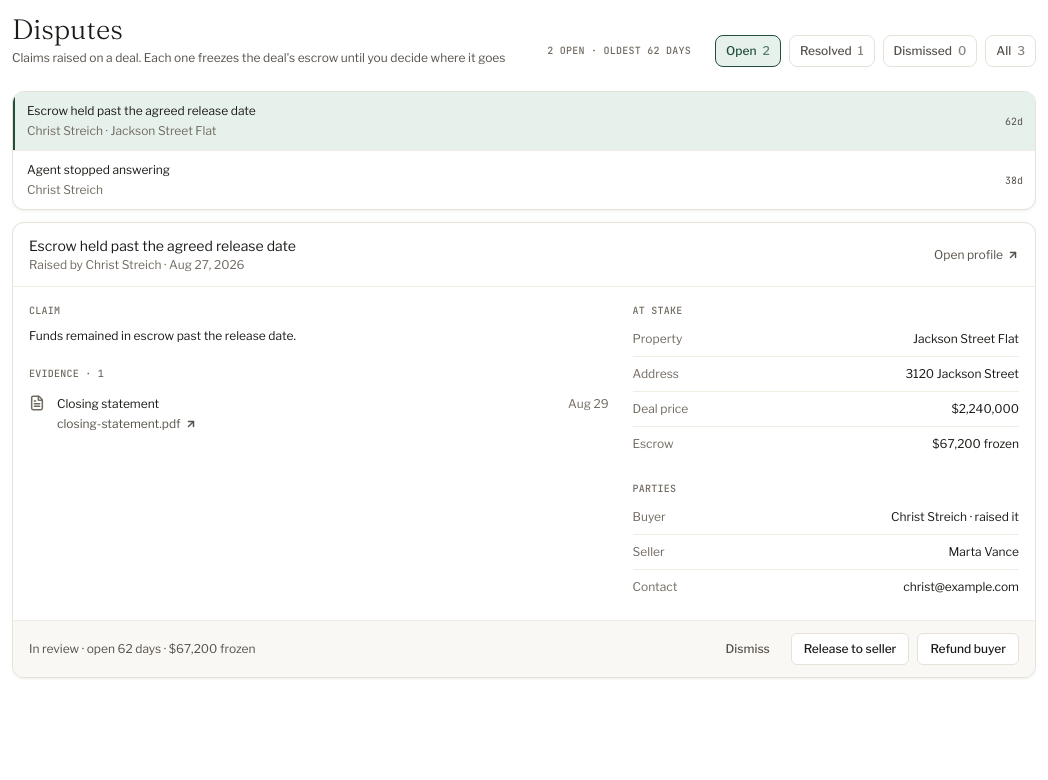
it: AdminDisputesConsole · 02 what can be decided › 2.3 offers only dismiss and resolve on a dispute with no hold
Click the button "Agent stopped answering Christ Streich 38d". click: (99, 170)
box: [13, 151, 1035, 209]
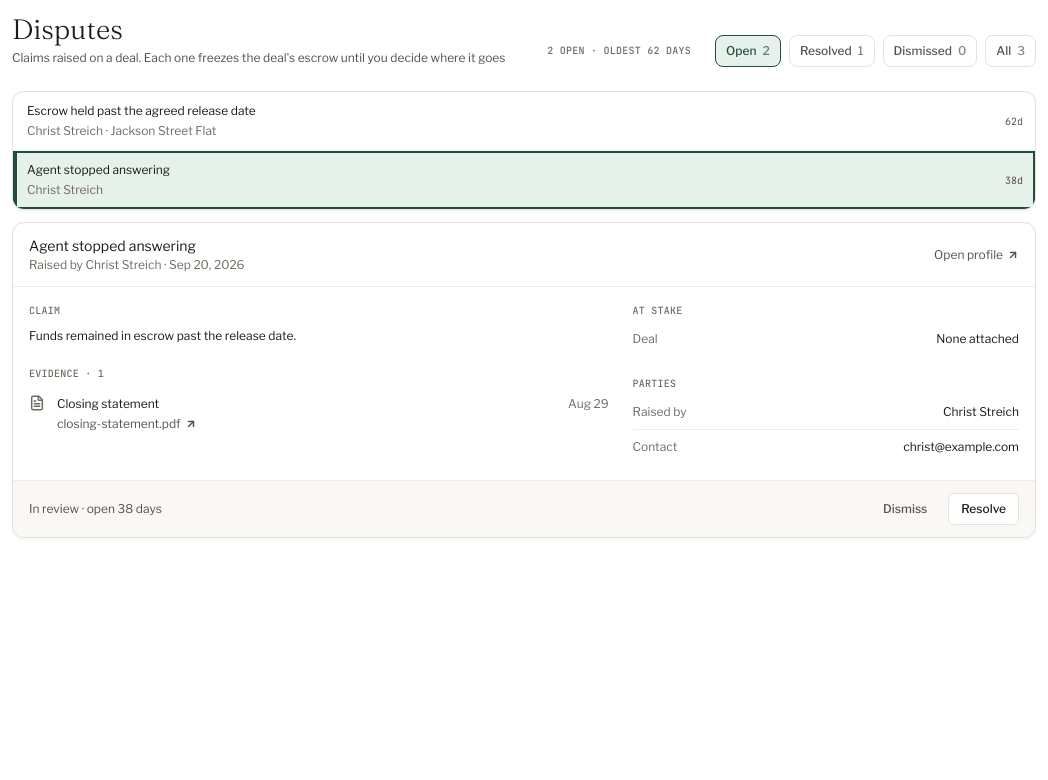
expect the heading "Agent stopped answering" is shown: met, box [29, 237, 196, 254]
